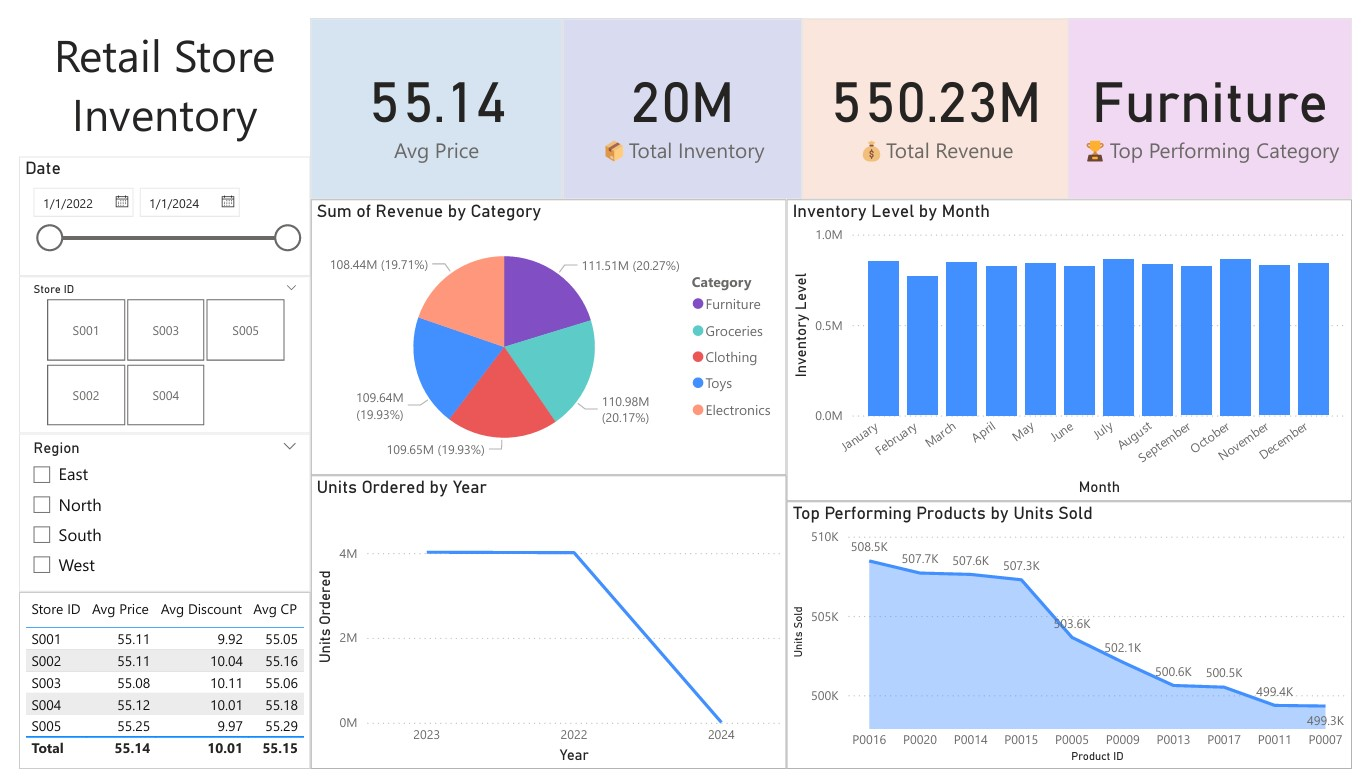

Layout of this report page (visuals, bound fields, positions):
{"tool":"powerbi","page":{"name":"Page 1","canvas":[1280,720],"ordinal":0},"visuals":[{"type":"slicer","title":"Date","fields":{"Values":["retail_store_inventory.Date"]},"box":[0,131.7,280,115],"z":0},{"type":"card","fields":{"Values":["retail_store_inventory.Avg Price"]},"box":[280,0,241.7,173.3],"z":1000},{"type":"card","fields":{"Values":["retail_store_inventory.Total Inventory"]},"box":[521.7,0,230,173.3],"z":2000},{"type":"pieChart","fields":{"Category":["retail_store_inventory.Category"],"Y":["Sum(retail_store_inventory.Revenue)"]},"box":[280,173.3,456.7,265],"z":3000},{"type":"clusteredColumnChart","fields":{"Category":["retail_store_inventory.Date.Variation.Date Hierarchy.Month"],"Y":["Sum(retail_store_inventory.Inventory Level)"]},"box":[736.7,173.3,543.3,290],"z":4000},{"type":"areaChart","title":"Top Performing Products by Units Sold","fields":{"Category":["retail_store_inventory.Product ID"],"Y":["Sum(retail_store_inventory.Units Sold)"]},"box":[736.7,463.3,543.3,256.7],"z":5000},{"type":"lineChart","fields":{"Category":["retail_store_inventory.Year"],"Y":["Sum(retail_store_inventory.Units Ordered)"]},"box":[280,438.3,456.7,281.7],"z":6000},{"type":"tableEx","fields":{"Values":["retail_store_inventory.Store ID","retail_store_inventory.Avg Price","retail_store_inventory.Avg Discount","retail_store_inventory.Avg CP"]},"box":[0,550,280,170],"z":7000},{"type":"textbox","box":[0,0,280,131.7],"z":8000},{"type":"card","fields":{"Values":["Sum(retail_store_inventory.Revenue)"]},"box":[751.7,0,256.7,173.3],"z":9000},{"type":"card","fields":{"Values":["Min(retail_store_inventory.Category)"]},"box":[1008.3,0,271.7,173.3],"z":10000},{"type":"slicer","fields":{"Values":["retail_store_inventory.Store ID"]},"box":[0,246.7,280,151.7],"z":11000},{"type":"slicer","fields":{"Values":["retail_store_inventory.Region"]},"box":[0,398.3,280,151.7],"z":12000}]}

Visuals, with their boxes in screenshot pixels (x1, y1, x2, y2), scaled from the page's 1280x720 canvas onto the 1363x778 screenshot:
"Date" slicer: [x1=0, y1=142, x2=298, y2=267]
card - retail_store_inventory.Avg Price: [x1=298, y1=0, x2=556, y2=187]
card - retail_store_inventory.Total Inventory: [x1=556, y1=0, x2=800, y2=187]
pieChart - retail_store_inventory.Category x Sum(retail_store_inventory.Revenue): [x1=298, y1=187, x2=784, y2=474]
clusteredColumnChart - retail_store_inventory.Date.Variation.Date Hierarchy.Month x Sum(retail_store_inventory.Inventory Level): [x1=784, y1=187, x2=1362, y2=501]
"Top Performing Products by Units Sold" areaChart: [x1=784, y1=501, x2=1362, y2=777]
lineChart - retail_store_inventory.Year x Sum(retail_store_inventory.Units Ordered): [x1=298, y1=474, x2=784, y2=777]
tableEx - retail_store_inventory.Store ID x retail_store_inventory.Avg Price: [x1=0, y1=594, x2=298, y2=777]
textbox: [x1=0, y1=0, x2=298, y2=142]
card - Sum(retail_store_inventory.Revenue): [x1=800, y1=0, x2=1074, y2=187]
card - Min(retail_store_inventory.Category): [x1=1074, y1=0, x2=1362, y2=187]
slicer - retail_store_inventory.Store ID: [x1=0, y1=267, x2=298, y2=430]
slicer - retail_store_inventory.Region: [x1=0, y1=430, x2=298, y2=594]
